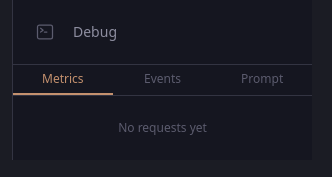
Test case: ObservabilityPane — Events tab (with data) › renders multiple events newest-first
Click the tab "Events": {"x": 163, "y": 80} [113,65,212,95]
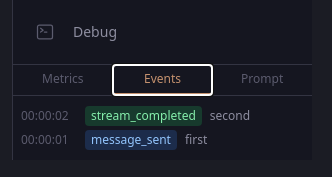
Now the number of elements with test id "event-row" is 2, box [21,106,250,126]; [21,130,207,150]
Now the text with test id "event-payload" reads "second", box [210,107,250,124]
Now the text with test id "event-payload" reads "first", box [185,131,207,148]
